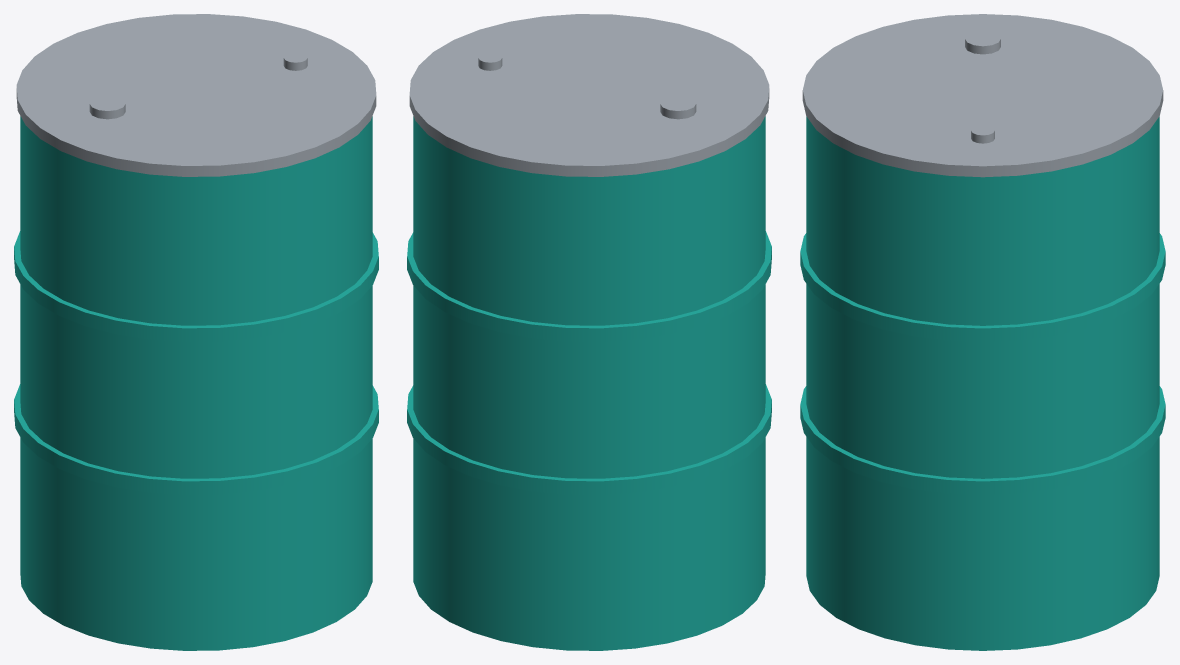
The model's file is drum.glb.
The picture shows the model from 3 angles, left to right: view 1: azimuth 30°, elevation 25°; view 2: azimuth 150°, elevation 25°; view 3: azimuth 270°, elevation 25°; orthographic projection.
Visible parts, largest first — view 1: drum; view 2: drum; view 3: drum.
Boxes of the visible parts, x1,y1,x2,y2 form: drum: [14, 14, 378, 650]; drum: [407, 14, 771, 650]; drum: [800, 14, 1165, 650].
Bounding box in the file's own units: 0.606 × 0.905 × 0.606.
